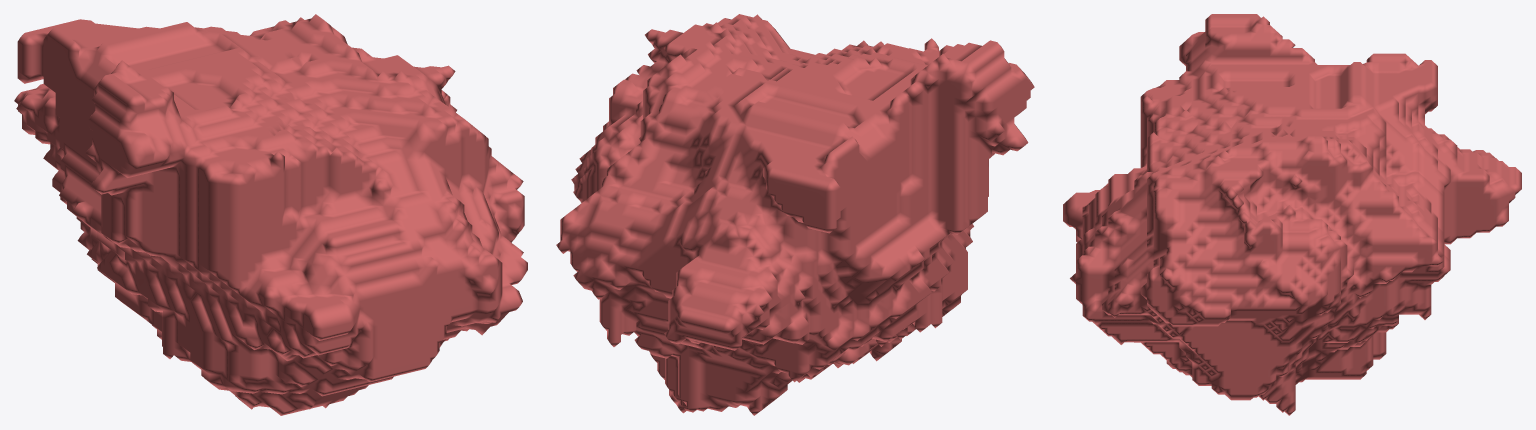
The model's file is Cell.obj.
3 renders of one model, left to right at view 1: azimuth 30°, elevation 25°; view 2: azimuth 150°, elevation 25°; view 3: azimuth 270°, elevation 25°, orthographic. The views are drawn at different scales.
Visible parts, largest first — view 1: skin; view 2: skin; view 3: skin.
Boxes of the visible parts, bbox=[...] form: skin: bbox=[14, 14, 527, 415]; skin: bbox=[556, 14, 1034, 415]; skin: bbox=[1063, 14, 1521, 415].
Bounding box in the file's own units: 57.99 × 50.99 × 70.99.
